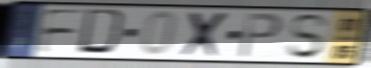0: (138, 9, 180, 58)
D: (75, 7, 131, 58)
F: (34, 7, 89, 56)
P: (237, 11, 286, 60)
S: (284, 13, 332, 61)
X: (179, 10, 234, 59)
